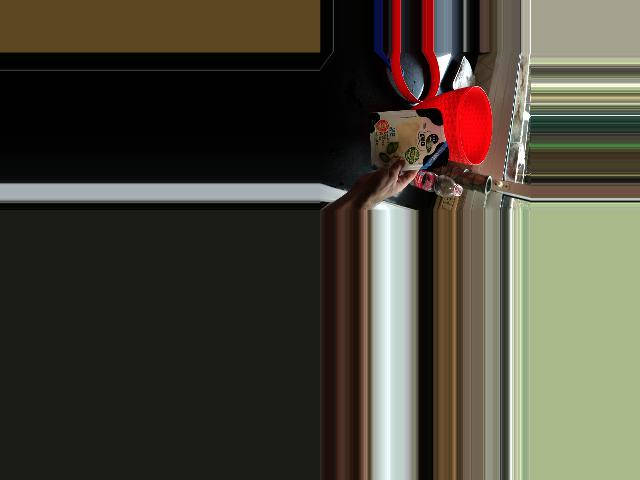cheese: (375, 108, 449, 185)
